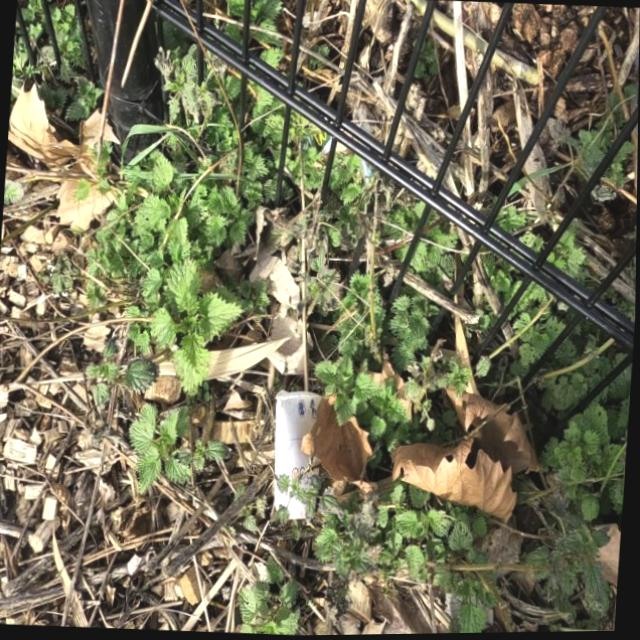Cup: (266, 386, 327, 525)
